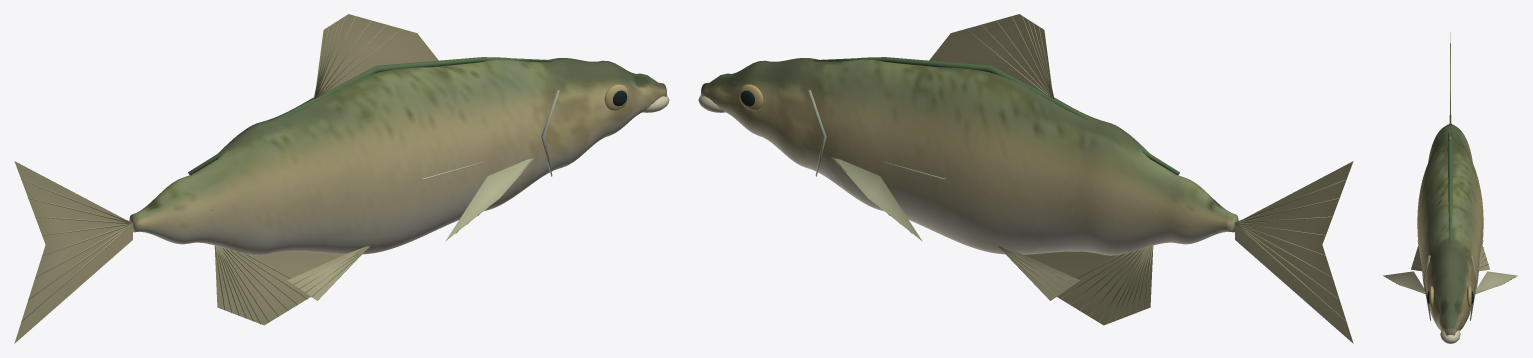
The model's file is golden_shiner_hybrid.glb.
3 renders of one model, left to right at view 1: azimuth 30°, elevation 25°; view 2: azimuth 150°, elevation 25°; view 3: azimuth 270°, elevation 25°, orthographic. The views are drawn at different scales.
Visible parts, largest first — view 1: ContinuousBody, ForkedCaudalFin, LongAnalFin, DorsalFin, PectoralFinL, BackMidline, PelvicFinL; view 2: ContinuousBody, ForkedCaudalFin, LongAnalFin, DorsalFin, PectoralFinR, BackMidline, PelvicFinR; view 3: ContinuousBody, BackMidline, PectoralFinL, PectoralFinR, UpturnedLowerJaw, PelvicFinL, PelvicFinR, OperculumRimL, OperculumRimR.
Boxes of the visible parts, x1,y1,x2,y2 form: ContinuousBody: [129, 57, 666, 255]; ForkedCaudalFin: [14, 161, 132, 343]; LongAnalFin: [214, 246, 343, 325]; DorsalFin: [315, 14, 438, 92]; PectoralFinL: [445, 158, 532, 241]; BackMidline: [188, 57, 554, 175]; PelvicFinL: [287, 247, 364, 300]; ContinuousBody: [701, 57, 1238, 255]; ForkedCaudalFin: [1235, 161, 1353, 343]; LongAnalFin: [1024, 246, 1153, 325]; DorsalFin: [929, 14, 1052, 92]; PectoralFinR: [835, 158, 922, 241]; BackMidline: [813, 57, 1179, 175]; PelvicFinR: [1003, 247, 1080, 300]; ContinuousBody: [1417, 124, 1483, 335]; BackMidline: [1447, 123, 1453, 245]; PectoralFinL: [1383, 271, 1425, 291]; PectoralFinR: [1475, 271, 1517, 291]; UpturnedLowerJaw: [1440, 330, 1460, 343]; PelvicFinL: [1411, 246, 1421, 271]; PelvicFinR: [1479, 246, 1489, 271]; OperculumRimL: [1423, 255, 1430, 320]; OperculumRimR: [1470, 255, 1477, 320].
Bounding box in the file's own units: 0.2094 × 0.089 × 0.048.
